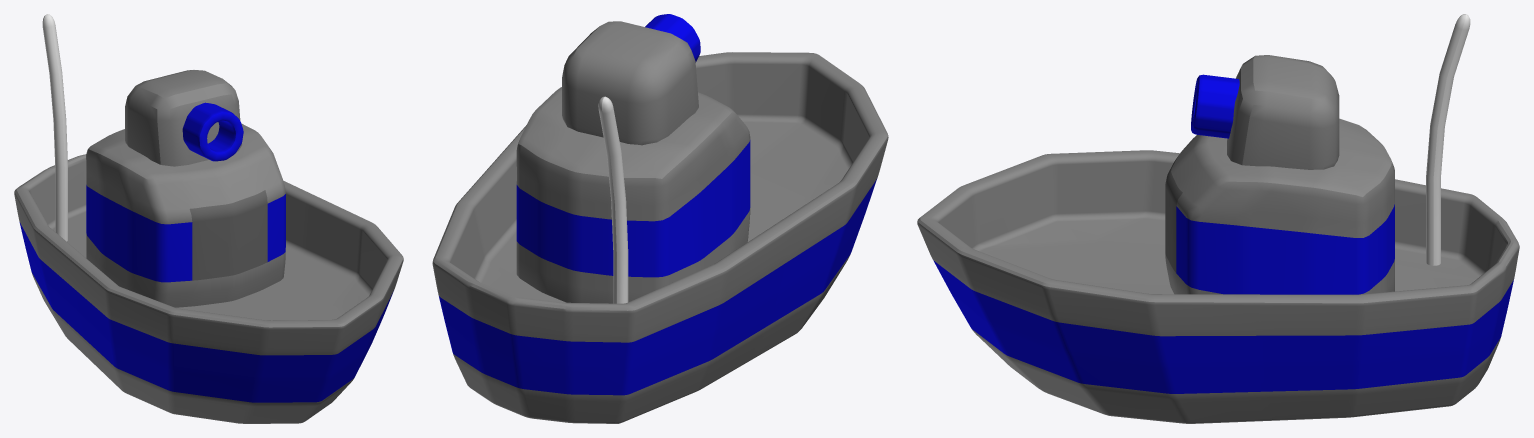
File: NavioBlue.fbx
3 views of the same model, side by side, from view 1: azimuth 30°, elevation 25°; view 2: azimuth 150°, elevation 25°; view 3: azimuth 270°, elevation 25° (orthographic). The views are drawn at different scales.
Parts seen in each view (by area): view 1: group2_pCube1; view 2: group2_pCube1; view 3: group2_pCube1.
Boxes of the visible parts, <box> form: group2_pCube1: <box>14,14,403,423</box>; group2_pCube1: <box>432,14,888,423</box>; group2_pCube1: <box>917,14,1519,423</box>.
Bounding box in the file's own units: 275 × 276 × 463.
